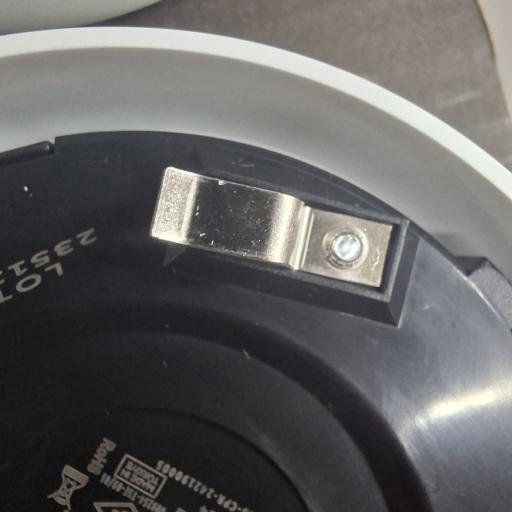yaysiz: (146, 165, 391, 290)
